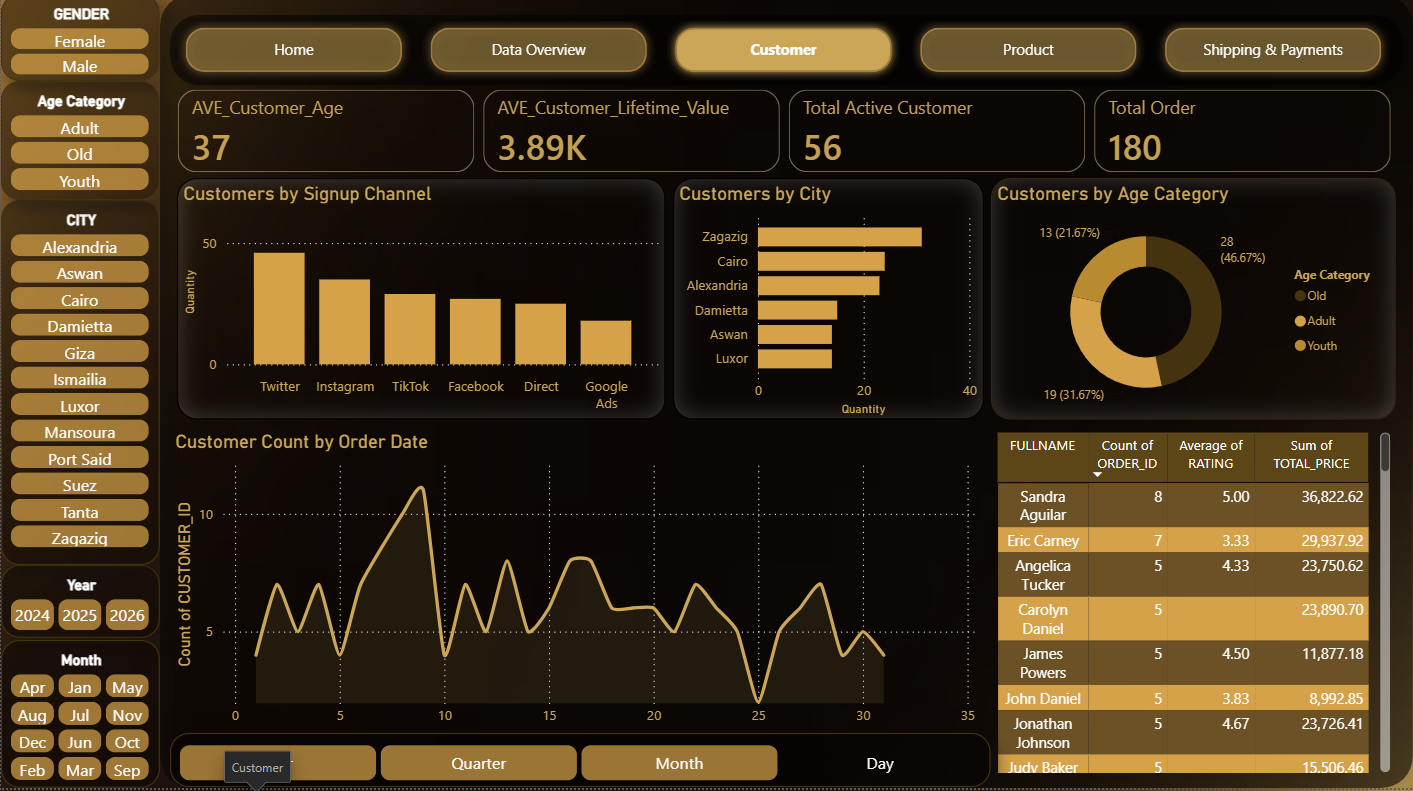

Layout of this report page (visuals, bound fields, positions):
{"tool":"powerbi","page":{"name":"Customer","canvas":[1280,720],"ordinal":2},"visuals":[{"type":"shape","box":[143.8,0,1136.2,720],"z":0},{"type":"shape","box":[143.8,10,1136.2,81.6],"z":0,"group":"g1"},{"type":"tableEx","fields":{"Values":["CUSTOMER.FULLNAME","ORDERS.ORDER_ID","Avg(REVIEW.RATING)","Sum(ORDERS.TOTAL_PRICE)"]},"box":[897.5,392.7,367,317.7],"z":1000},{"type":"cardVisual","fields":{"Data":["Measure_Table.AVE_Customer_Age","Measure_Table.AVE_Customer_Lifetime_Value","Measure_Table.Total Active Customer","Measure_Table.Total Order"]},"box":[153.2,81.6,1116.3,85.2],"z":2000},{"type":"group","id":"g1","title":"Group 1","box":[143.8,10,1136.2,81.6],"z":3000},{"type":"advancedSlicerVisual","fields":{"Values":["CUSTOMER.GENDER"]},"box":[0,0,143.9,79.2],"z":4000},{"type":"advancedSlicerVisual","fields":{"Values":["ORDERS.ORDER_DATE.Variation.Date Hierarchy.Year"]},"box":[0,518.2,143.9,65.8],"z":5000},{"type":"advancedSlicerVisual","fields":{"Values":["ORDERS.Month"]},"box":[0,586,143.9,133.7],"z":6000},{"type":"clusteredBarChart","title":"Total Quantity Per Category","fields":{"Category":["CUSTOMER.CITY"],"Y":["CountNonNull(ORDERS.CUSTOMER_ID)"]},"box":[609.7,166.6,281.7,219],"z":7000},{"type":"pageNavigator","box":[159.4,22.7,1104.9,56.2],"z":8000,"group":"g1"},{"type":"clusteredColumnChart","title":"Total Quantity Per Category","fields":{"Category":["CUSTOMER.SIGNUP_CHANNEL"],"Y":["CountNonNull(ORDERS.CUSTOMER_ID)"]},"box":[159.4,166.6,443.1,219],"z":8000},{"type":"donutChart","title":"TOTALPRICE ","fields":{"Category":["CUSTOMER.Age Category"],"Y":["CountNonNull(CUSTOMER.CUSTOMER_ID)"]},"box":[897.5,166.6,367,219],"z":9000},{"type":"advancedSlicerVisual","fields":{"Values":["CUSTOMER.CITY"]},"box":[0,187.1,143.9,331.1],"z":10000},{"type":"advancedSlicerVisual","fields":{"Values":["CUSTOMER.Age Category"]},"box":[0,79.2,143.9,108],"z":11000},{"type":"lineChart","title":"TOTALPRICE ","fields":{"Category":["ORDERS.ORDER_DATE.Variation.Date Hierarchy.Day"],"Y":["CountNonNull(ORDERS.CUSTOMER_ID)"]},"box":[153.2,392.7,738.2,277.6],"z":12000},{"type":"advancedSlicerVisual","fields":{"Values":["Parameter 2.Parameter"]},"box":[153.2,670.3,744.4,49.3],"z":13000}]}

Visuals, with their boxes in screenshot pixels (x1, y1, x2, y2), scaled from the page's 1280x720 canvas onto the 1413x791 screenshot:
shape: locate(159, 0, 1412, 790)
shape: locate(159, 11, 1412, 101)
tableEx - CUSTOMER.FULLNAME x ORDERS.ORDER_ID: locate(991, 431, 1396, 780)
cardVisual - Measure_Table.AVE_Customer_Age x Measure_Table.AVE_Customer_Lifetime_Value: locate(169, 90, 1401, 183)
"Group 1" group: locate(159, 11, 1412, 101)
advancedSlicerVisual - CUSTOMER.GENDER: locate(0, 0, 159, 87)
advancedSlicerVisual - ORDERS.ORDER_DATE.Variation.Date Hierarchy.Year: locate(0, 569, 159, 642)
advancedSlicerVisual - ORDERS.Month: locate(0, 644, 159, 790)
"Total Quantity Per Category" clusteredBarChart: locate(673, 183, 984, 424)
pageNavigator: locate(176, 25, 1396, 87)
"Total Quantity Per Category" clusteredColumnChart: locate(176, 183, 665, 424)
"TOTALPRICE " donutChart: locate(991, 183, 1396, 424)
advancedSlicerVisual - CUSTOMER.CITY: locate(0, 206, 159, 569)
advancedSlicerVisual - CUSTOMER.Age Category: locate(0, 87, 159, 206)
"TOTALPRICE " lineChart: locate(169, 431, 984, 736)
advancedSlicerVisual - Parameter 2.Parameter: locate(169, 736, 991, 790)
